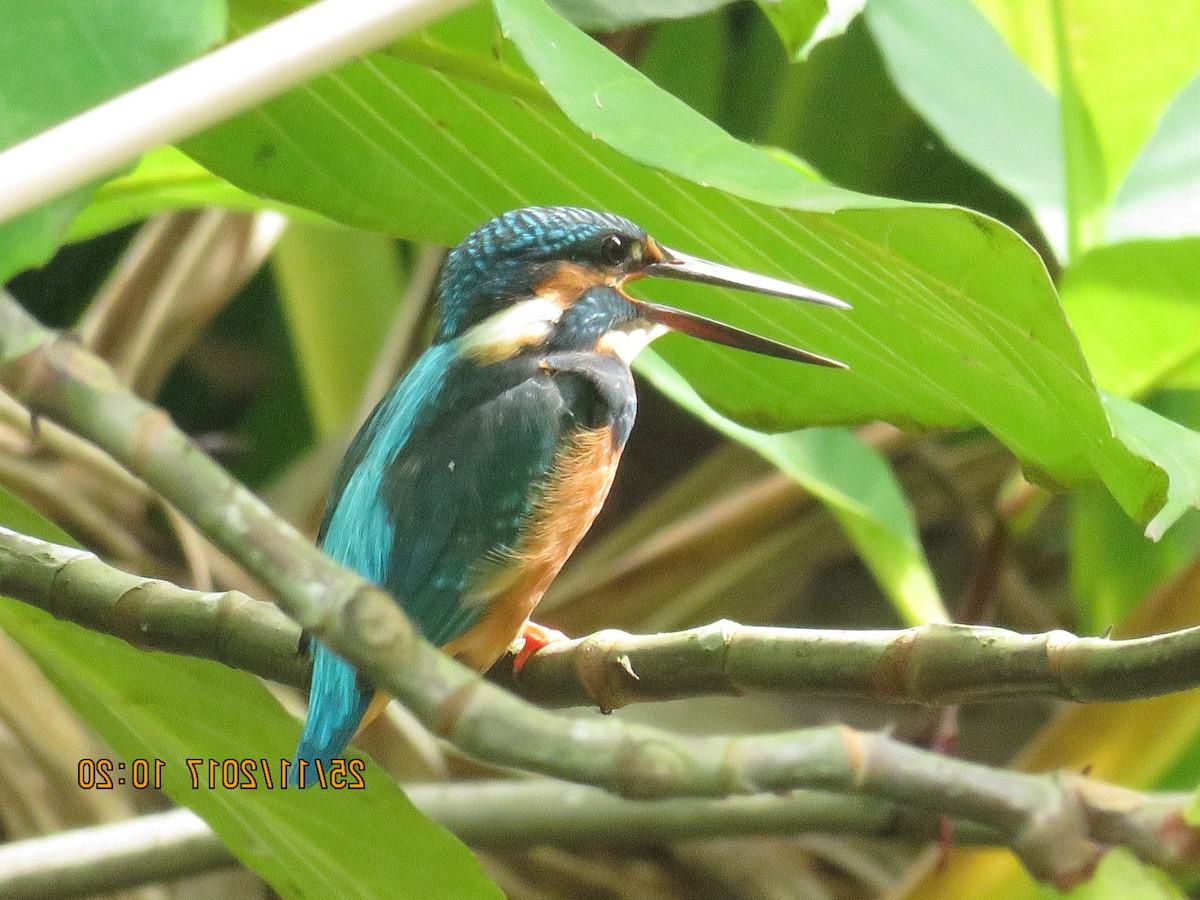kingfisher: (264, 205, 899, 799)
